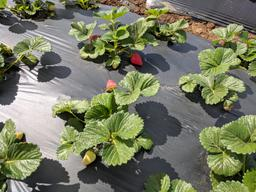green strawberry: (82, 150, 96, 165), (15, 131, 25, 140)
red strawberry: (130, 52, 144, 65), (106, 79, 118, 90)
